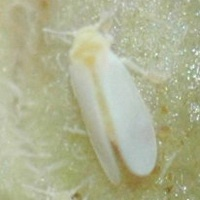insect: (69, 25, 156, 183)
